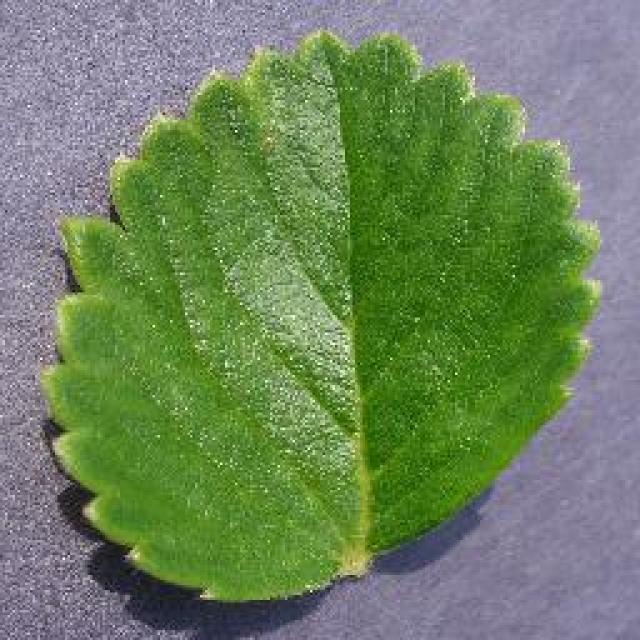Strawberry___healthy: (32, 10, 610, 632)
